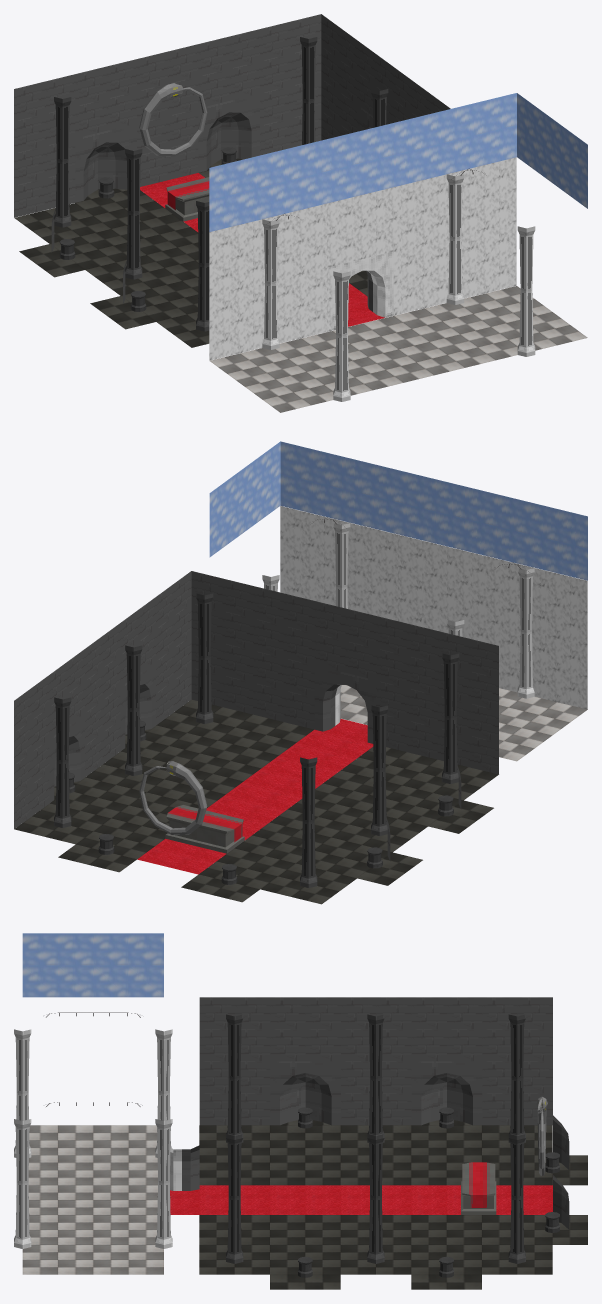
Rendered from SaturnRoom.glb.
3 renders of one model, top to bottom at view 1: azimuth 30°, elevation 25°; view 2: azimuth 150°, elevation 25°; view 3: azimuth 270°, elevation 25°, orthographic.
Parts seen in each view (by area): view 1: RoomWall, HallWalls, HallSky, HallFloor, FloorSides, HallColumns, RoomColumns, FloorCenter, Ouroboros, Altar, Pedestals; view 2: RoomWall, FloorSides, HallWalls, HallSky, RoomColumns, FloorCenter, HallFloor, HallColumns, Altar, Ouroboros, Pedestals; view 3: RoomWall, FloorSides, HallFloor, RoomColumns, FloorCenter, HallSky, HallColumns, Altar, Pedestals, Ouroboros, HallWalls.
Part boxes in pixels (left/top/right/bottom): RoomWall: left=14, top=14, right=450, bottom=311; HallWalls: left=209, top=157, right=516, bottom=360; HallSky: left=209, top=93, right=587, bottom=231; HallFloor: left=210, top=286, right=587, bottom=412; FloorSides: left=14, top=158, right=367, bottom=347; HallColumns: left=262, top=174, right=535, bottom=401; RoomColumns: left=54, top=37, right=388, bottom=331; FloorCenter: left=140, top=173, right=384, bottom=326; Ouroboros: left=139, top=83, right=207, bottom=156; Altar: left=165, top=177, right=209, bottom=221; Pedestals: left=59, top=147, right=236, bottom=311; RoomWall: left=14, top=571, right=498, bottom=861; FloorSides: left=14, top=699, right=498, bottom=904; HallWalls: left=280, top=506, right=587, bottom=725; HallSky: left=209, top=441, right=587, bottom=580; RoomColumns: left=54, top=593, right=459, bottom=887; FloorCenter: left=137, top=719, right=373, bottom=874; HallFloor: left=340, top=685, right=587, bottom=761; HallColumns: left=262, top=523, right=534, bottom=698; Altar: left=165, top=805, right=244, bottom=853; Ouroboros: left=139, top=761, right=207, bottom=834; Pedestals: left=69, top=720, right=453, bottom=884; RoomWall: left=182, top=997, right=569, bottom=1229; FloorSides: left=199, top=1120, right=587, bottom=1289; HallFloor: left=22, top=1125, right=163, bottom=1274; RoomColumns: left=226, top=1014, right=525, bottom=1263; FloorCenter: left=170, top=1185, right=552, bottom=1214; HallSky: left=22, top=933, right=163, bottom=997; HallColumns: left=14, top=1029, right=172, bottom=1248; Altar: left=461, top=1162, right=496, bottom=1214; Pedestals: left=298, top=1107, right=559, bottom=1277; Ouroboros: left=536, top=1096, right=547, bottom=1175; HallWalls: left=170, top=1148, right=181, bottom=1190.
Bounding box in the file's own units: 12 × 6 × 16.25.
12 materials, 12 textured.
